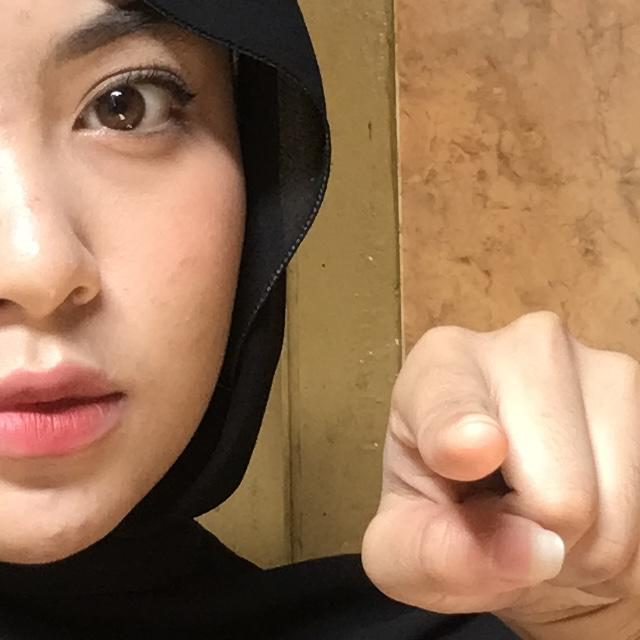kamu: (200, 246, 640, 640)
